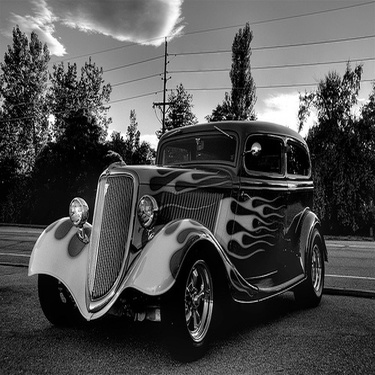car: (26, 105, 334, 369)
